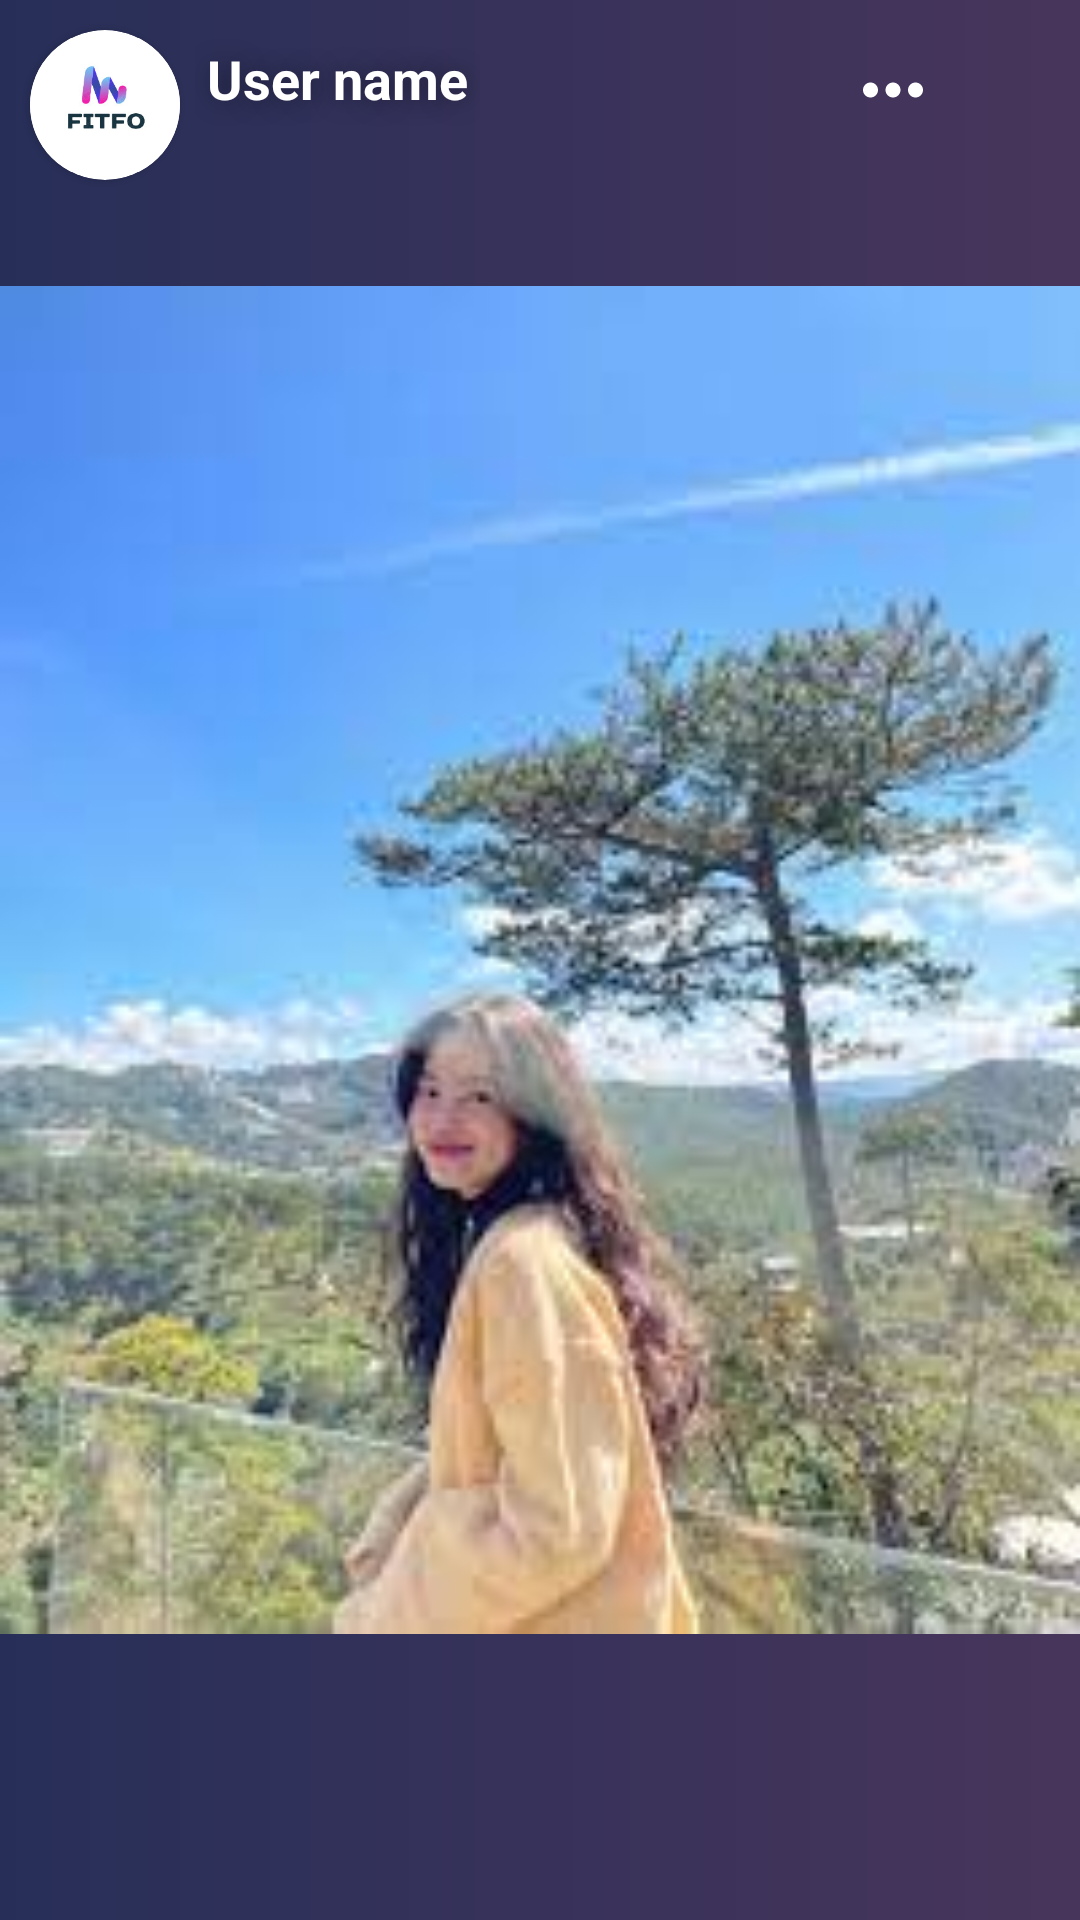

Point at icon controls on the screen. Image size 1080*1920, points as (x,y).
optionw: (893,90)
